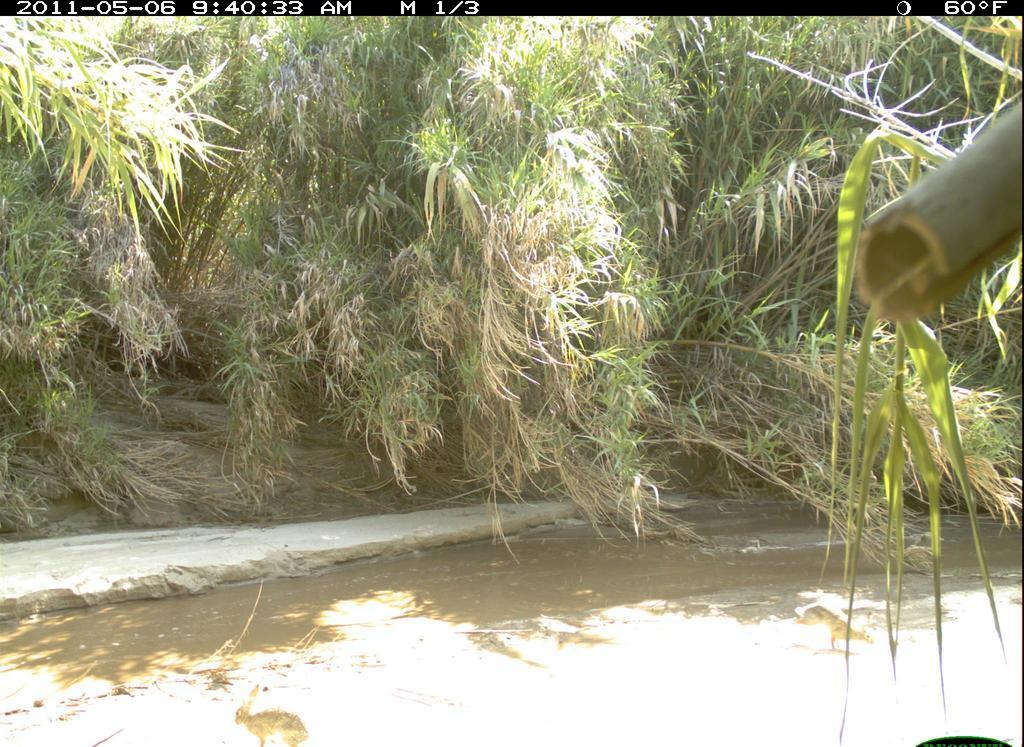rabbit: (231, 679, 316, 747)
